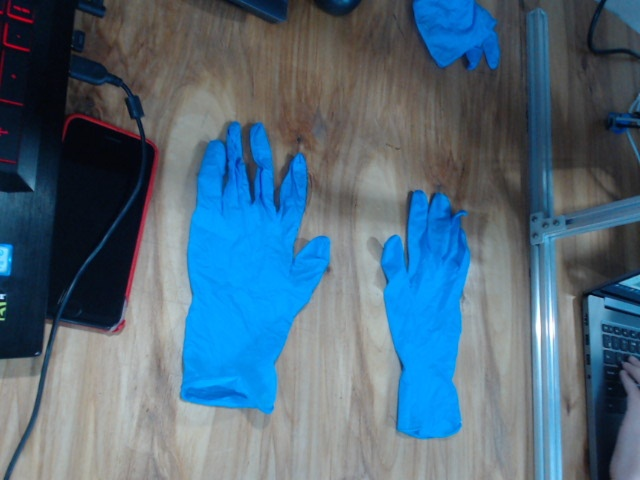medical_glove: (180, 122, 330, 413), (382, 189, 472, 443)
